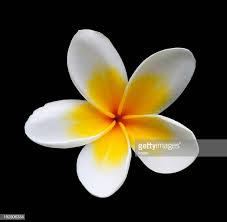frangipani: (25, 29, 199, 199)
